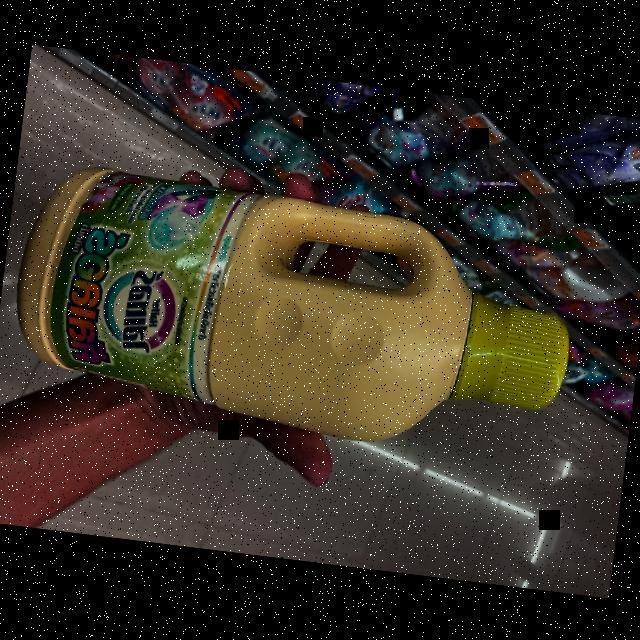chemical_plastic_bottle: (0, 151, 585, 470)
